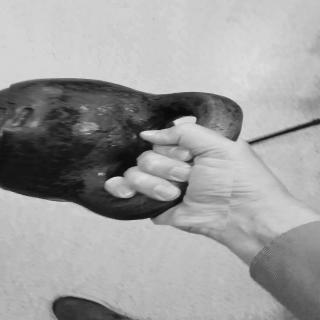kettlebell: (1, 78, 244, 227)
